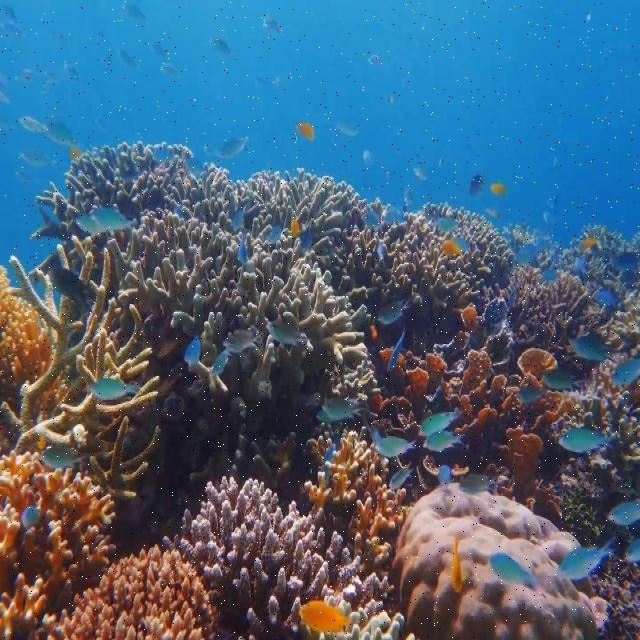fish: (560, 543, 612, 579), (559, 430, 613, 456), (492, 554, 536, 585), (77, 208, 129, 233), (300, 600, 348, 627), (422, 408, 461, 438), (94, 379, 138, 399), (42, 446, 83, 467), (373, 435, 412, 457), (607, 499, 639, 524), (612, 360, 639, 384)
reefs: (0, 141, 516, 498), (162, 476, 403, 638), (387, 482, 608, 639), (1, 548, 215, 638), (3, 453, 115, 615), (305, 435, 408, 575)
